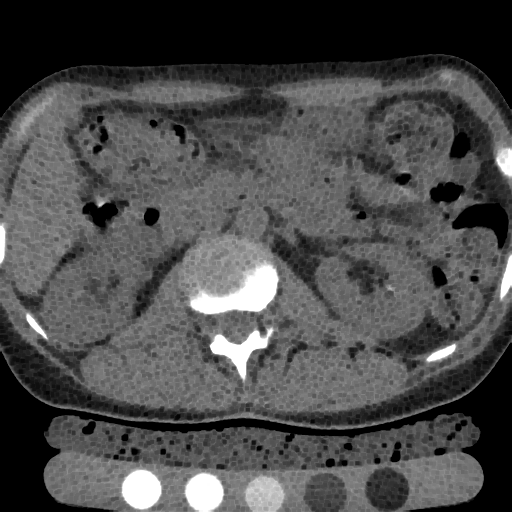Lesion: (384, 281, 397, 296)
